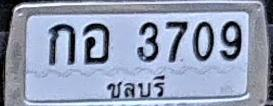0: (192, 21, 214, 61)
3: (136, 21, 158, 62)
7: (166, 20, 188, 62)
9: (220, 20, 242, 60)
A01: (48, 23, 75, 65)
A43: (83, 22, 110, 64)
CBI: (102, 72, 168, 101)
